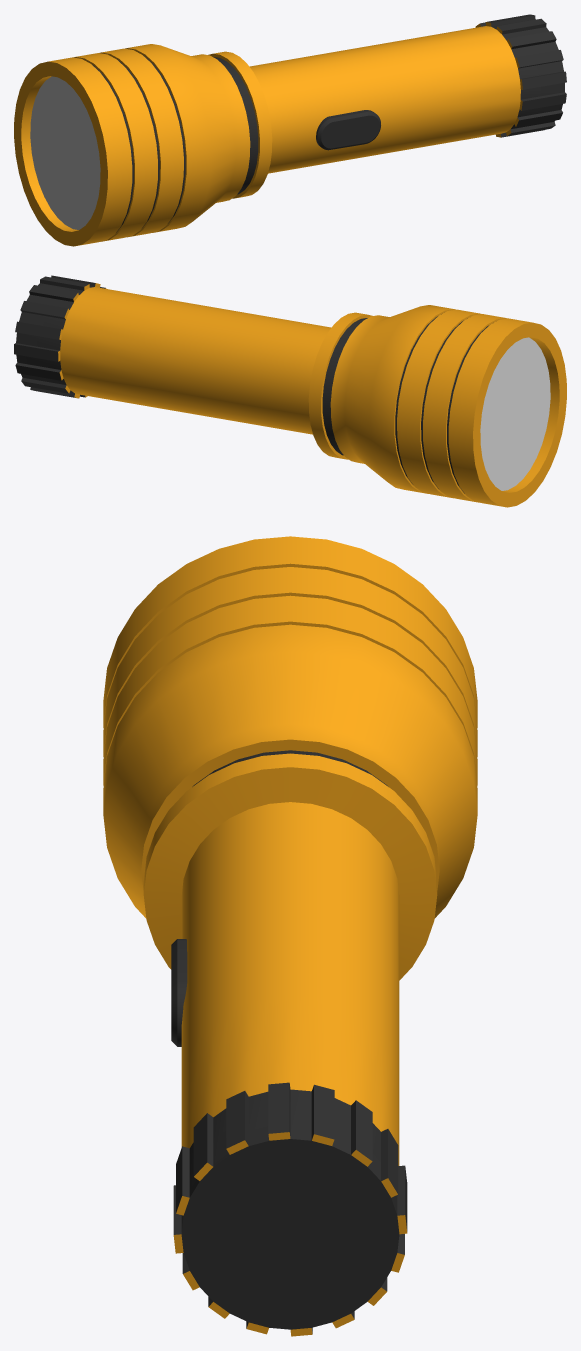
The model's file is Linterna.fbx.
3 renders of one model, top to bottom at view 1: azimuth 30°, elevation 25°; view 2: azimuth 150°, elevation 25°; view 3: azimuth 270°, elevation 25°, orthographic. The views are drawn at different scales.
Visible parts, largest first — view 1: Cylinder; view 2: Cylinder; view 3: Cylinder.
Part boxes in pixels (<box>): Cylinder: <box>14,14,566,246</box>; Cylinder: <box>14,275,566,507</box>; Cylinder: <box>103,536,477,1336</box>.
Bounding box in the file's own units: 35.51 × 12.34 × 11.84.
